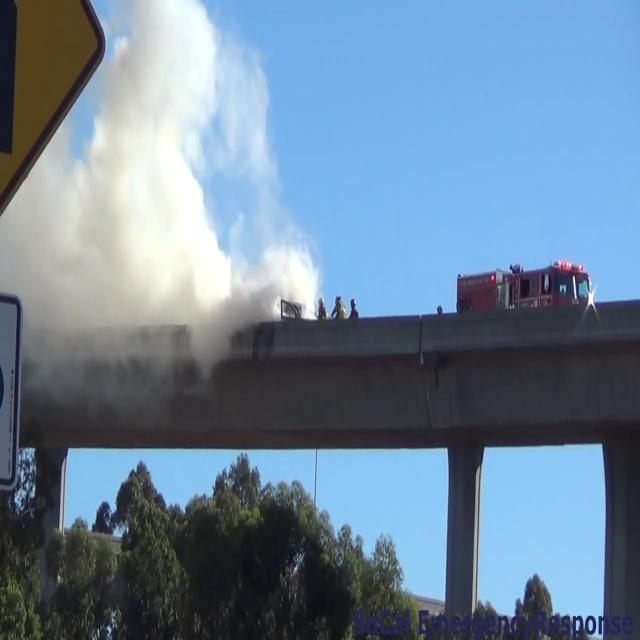Smoke: (0, 0, 332, 382)
